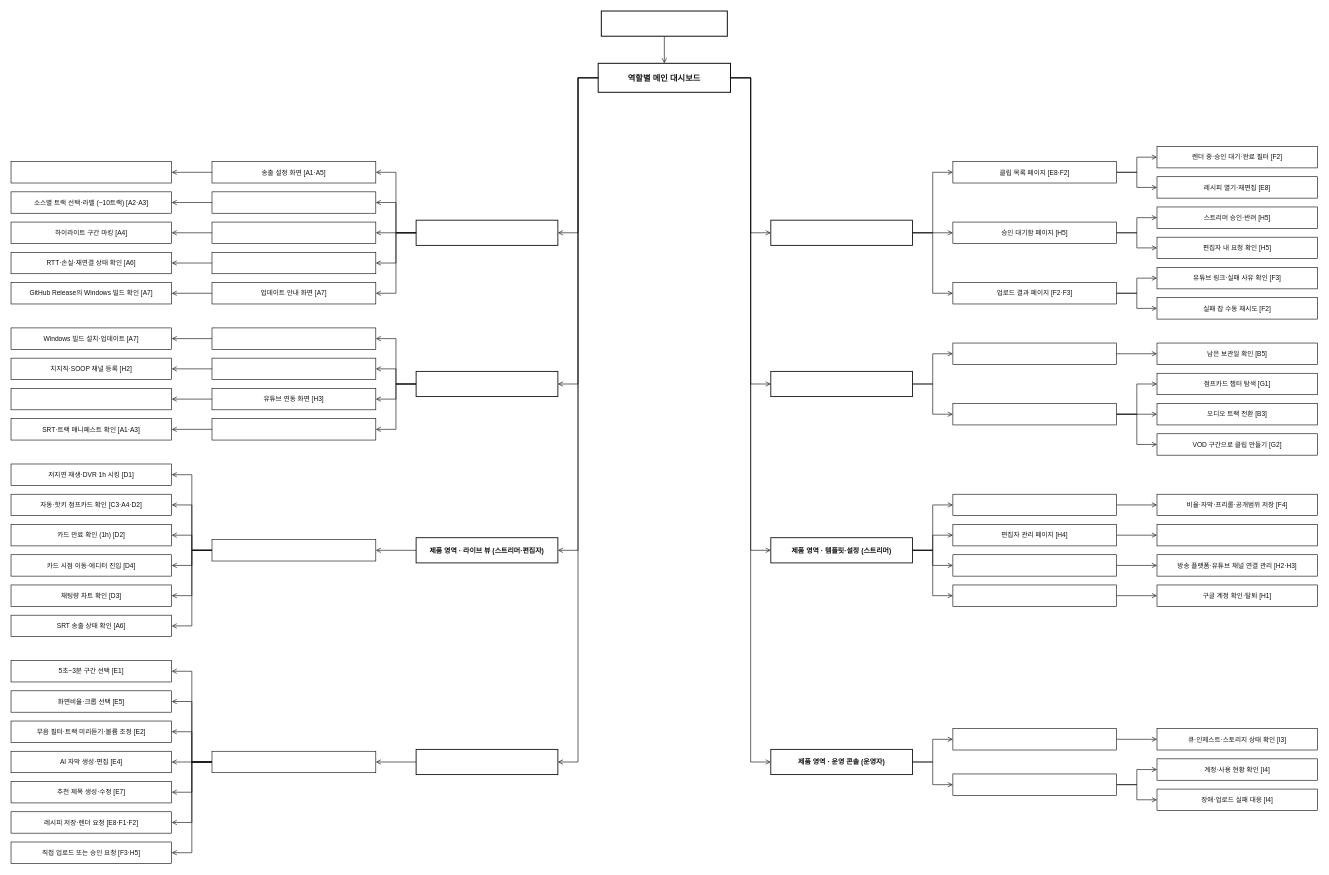
This 1329x875 diagram has some shape labels left out. Here are the shapes that lost their labels. From the top down, the box of each, then its label:
(601, 10, 728, 36): 로그인 (Google OAuth) [H1]
(10, 161, 172, 183): SRT 병행 송출·자동 재연결 [A1·A5]
(211, 191, 376, 213): 오디오 트랙 화면 [A2·A3]
(211, 221, 376, 243): 핫키 설정 화면 [A4]
(415, 219, 558, 246): 제품 영역 · Windows OBS 플러그인 (스트리머)
(770, 219, 913, 246): 제품 영역 · 클립 보관함 (스트리머·편집자)
(211, 252, 376, 274): 송출 상태 위젯 [A6]
(211, 327, 376, 349): 플러그인 설치 화면 [A7]
(952, 342, 1117, 364): VOD 목록 페이지 [B5]
(211, 358, 376, 380): 방송 채널 연결 화면 [H2]
(415, 371, 558, 397): 제품 영역 · 온보딩 (스트리머)
(770, 371, 913, 397): 제품 영역 · VOD (스트리머·편집자)
(10, 388, 172, 410): OAuth 채널 연결 [H3]
(952, 403, 1117, 425): VOD 플레이어 페이지 [G1·G2]
(211, 418, 376, 440): 연결 테스트 화면 [A1·A3]
(952, 494, 1117, 516): 자동화 템플릿 페이지 [F4]
(211, 539, 376, 561): 라이브 대시보드 페이지 [D1~D4]
(1156, 524, 1318, 546): 초대·직접 업로드·자동 업로드 권한 설정 [H4]
(952, 554, 1117, 576): 연동 관리 페이지 [H2·H3]
(952, 584, 1117, 606): 계정 설정 페이지 [H1]
(952, 728, 1117, 750): 운영 대시보드 페이지 [I3]
(211, 751, 376, 773): 클립 편집 페이지 [E1~E8]
(415, 749, 558, 775): 제품 영역 · 클립 에디터 (스트리머·편집자)
(952, 773, 1117, 795): 운영 관리 페이지 [I4]
